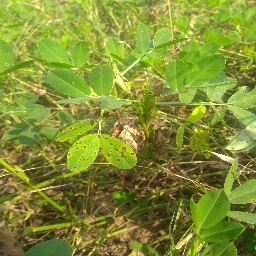GroundNut_Leaf: (191, 188, 232, 228), (8, 108, 51, 146), (101, 133, 138, 171), (46, 67, 89, 98), (186, 54, 226, 86), (67, 134, 99, 173), (38, 37, 71, 65), (227, 124, 256, 153), (92, 64, 115, 96), (73, 40, 93, 66), (184, 105, 205, 124), (154, 27, 170, 48)
